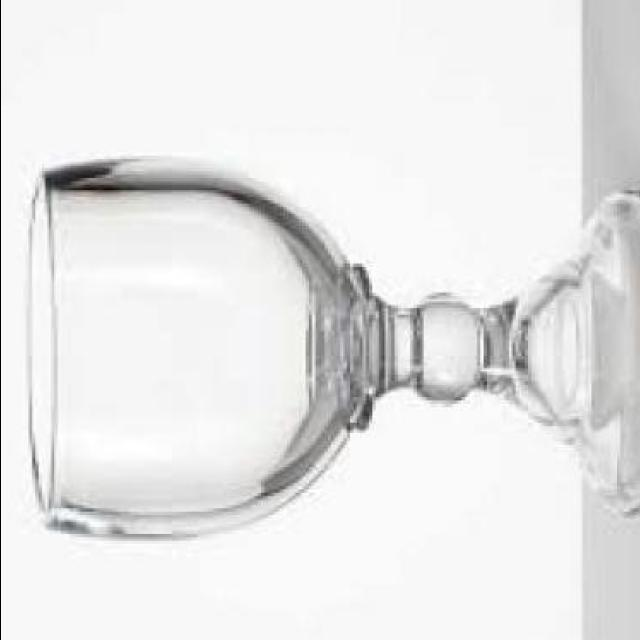kaca: (25, 155, 640, 544)
